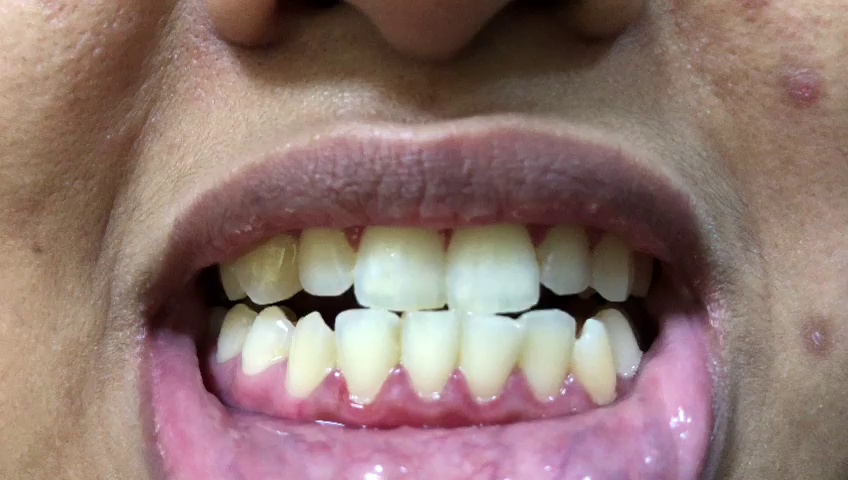1st Premolar: (242, 308, 288, 373), (602, 309, 644, 379)
2nd Premolar: (218, 304, 255, 362)
Canine: (234, 225, 300, 305), (286, 311, 335, 402), (576, 317, 620, 407), (592, 228, 635, 305)
Central Incisor: (355, 213, 448, 312), (446, 219, 541, 314), (459, 313, 519, 406), (401, 311, 459, 402)
Lateral Incisor: (337, 309, 401, 411), (521, 309, 576, 403), (296, 221, 357, 297), (539, 222, 591, 294)
